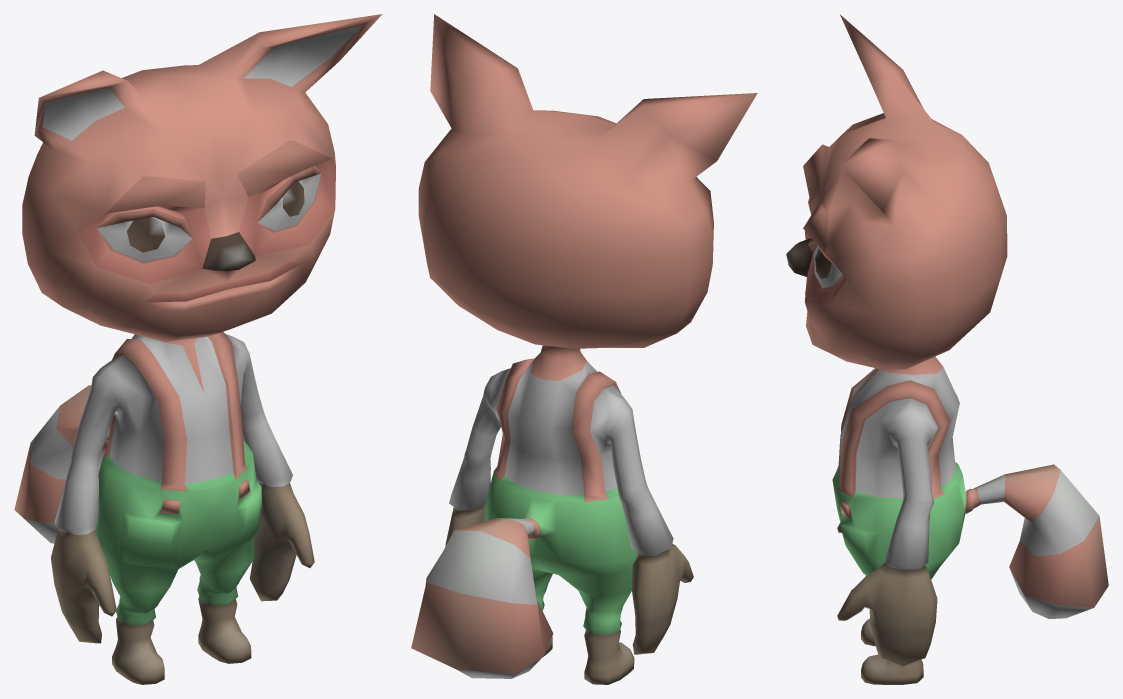
File: Geeeeeeeeeeee.glb
The picture shows the model from 3 angles, left to right: view 1: azimuth 30°, elevation 25°; view 2: azimuth 150°, elevation 25°; view 3: azimuth 270°, elevation 25°; orthographic projection. The views are drawn at different scales.
Parts seen in each view (by area): view 1: Cat?; view 2: Cat?; view 3: Cat?.
Boxes of the visible parts, <box> form: Cat?: <box>14,14,382,684</box>; Cat?: <box>411,14,757,684</box>; Cat?: <box>786,14,1108,684</box>.
Bounding box in the file's own units: 5.94 × 10.34 × 5.32.
